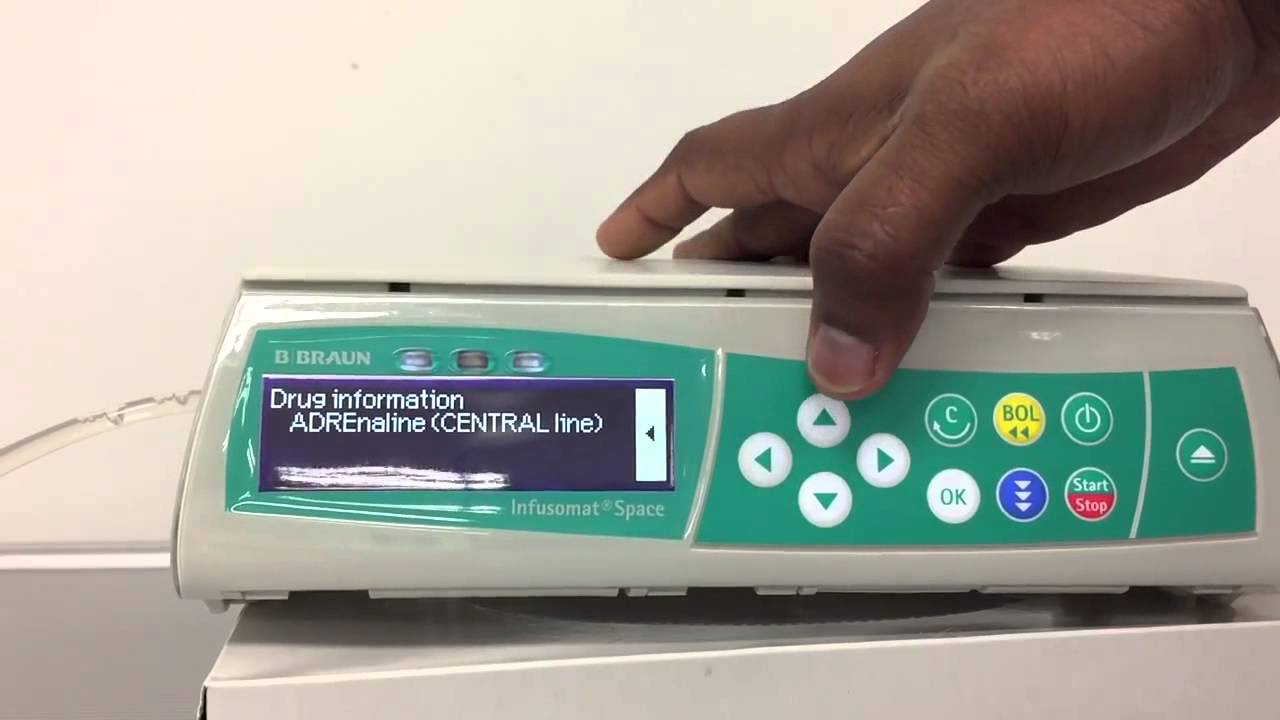BBraun Infusomat Space: (166, 235, 1277, 624)
